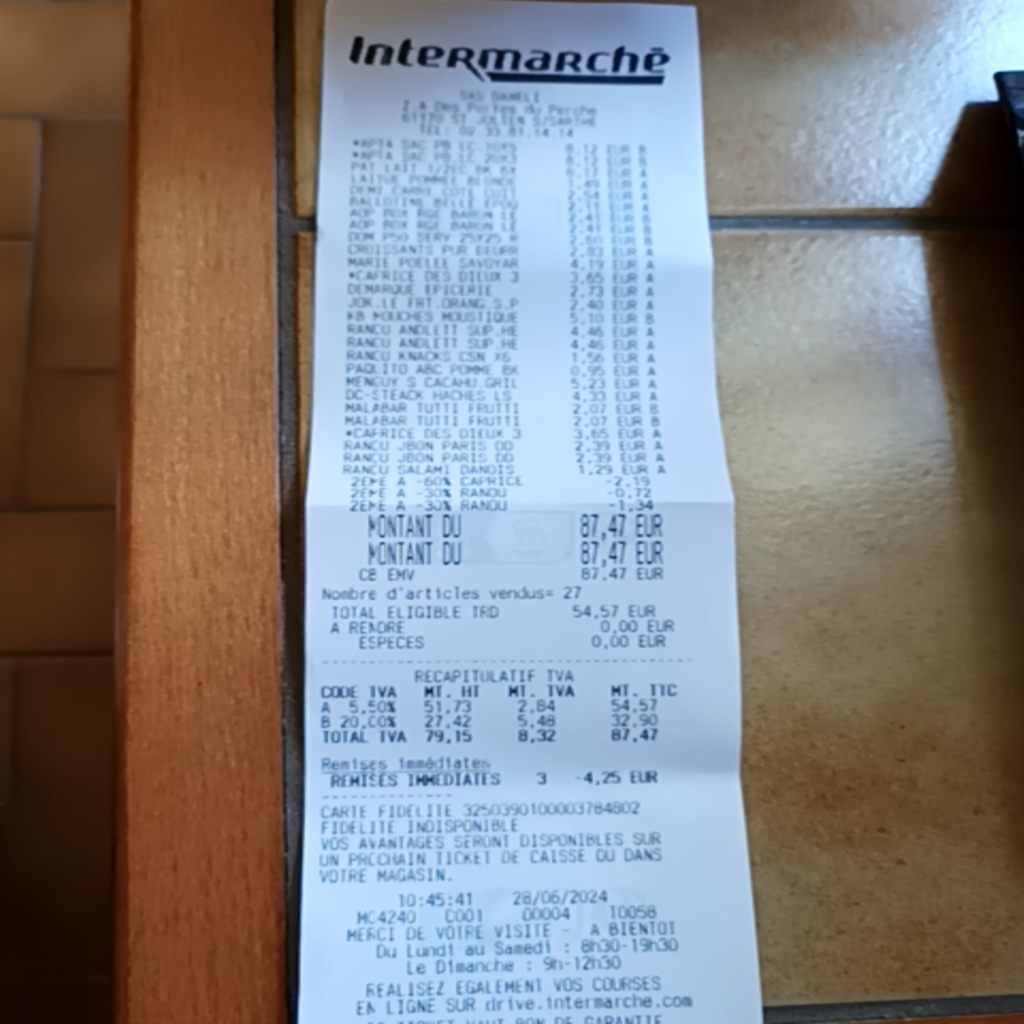recipt: (296, 0, 764, 1022)
